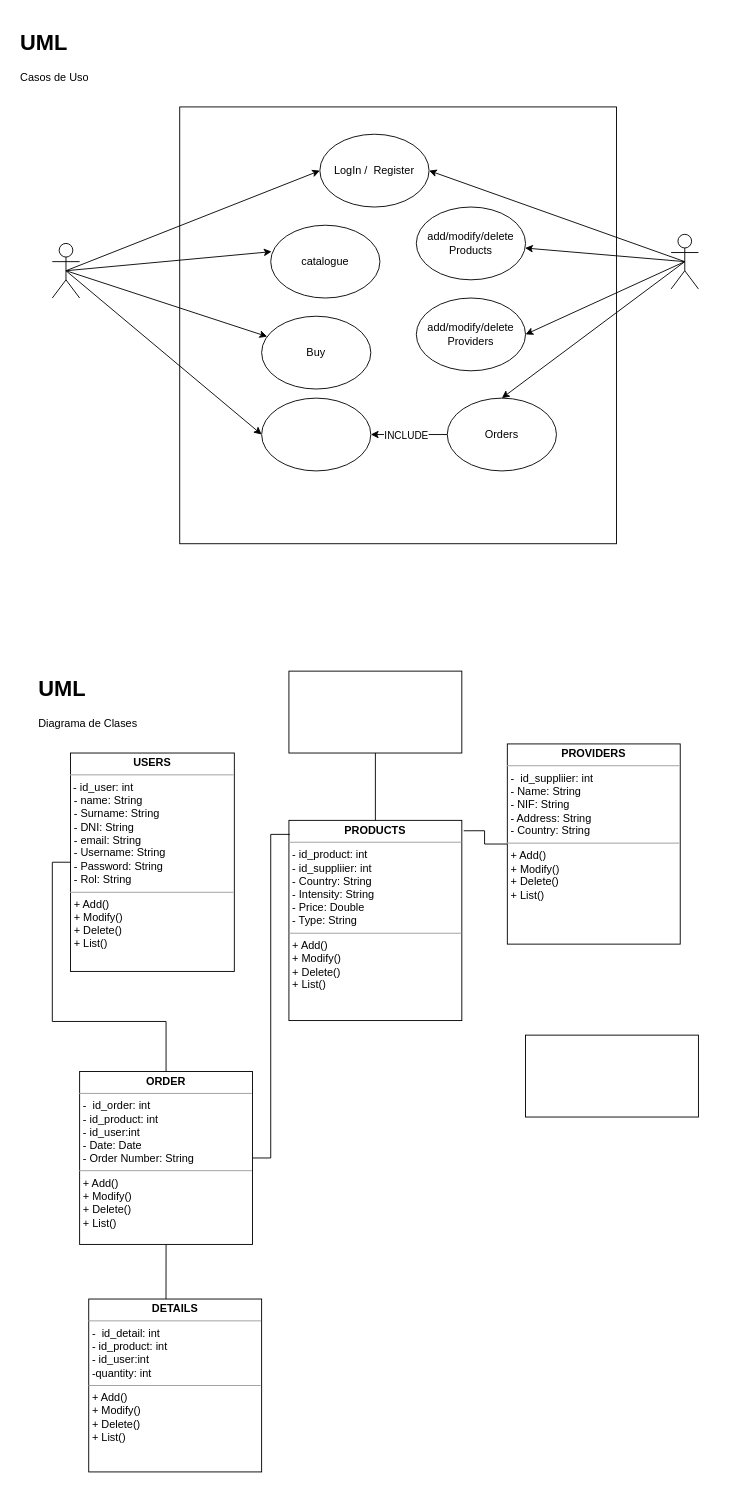
Image size: 748x1488. Some labels were removed from this diagram. Each missing label, with the centre of its shape:
ADMINSTRITATOR: pixel 684 261
CATEGORIES - id_categories: int - tipo: int: pixel 611 1075
See My Orders: pixel 316 434
SUPPLIES - id_product: int - id_provider: int: pixel 375 711
USERS: pixel 65 270
